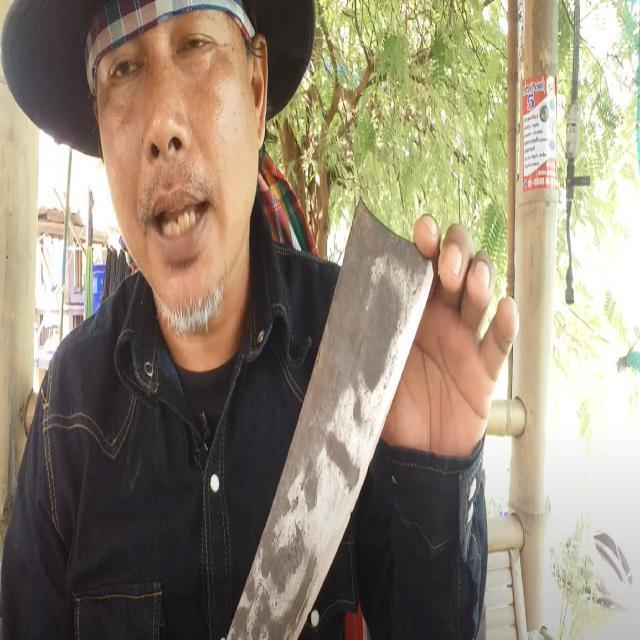eto: (227, 204, 438, 639)
